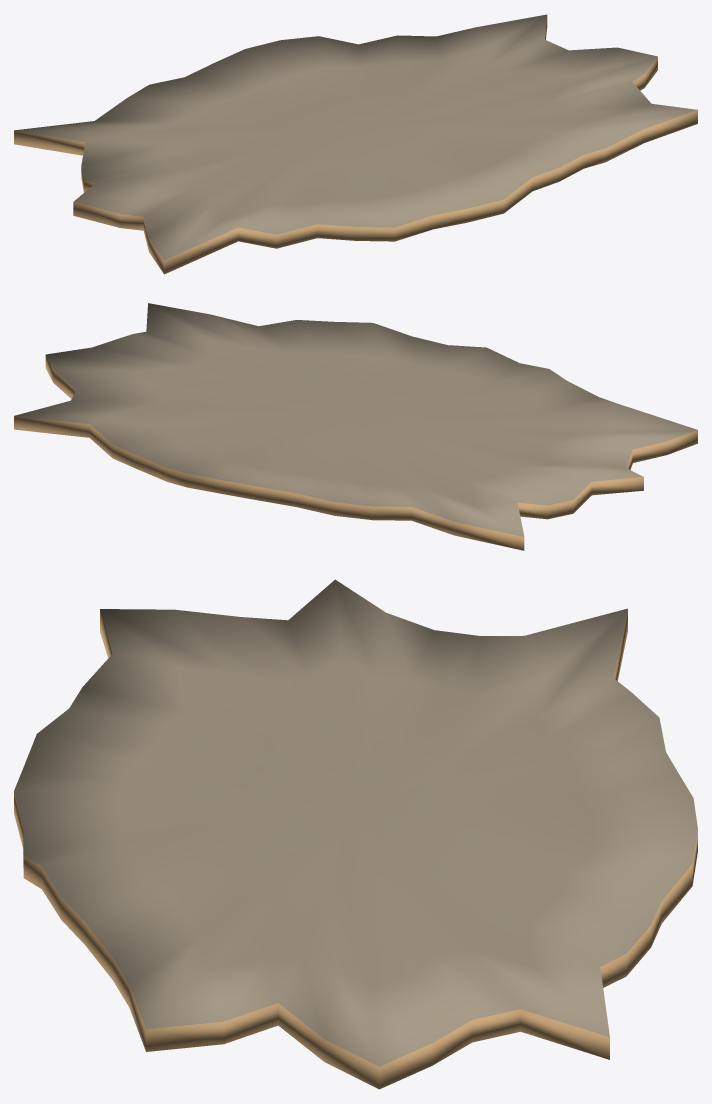
The model's file is w3d_pelt_wolf_hide_s.glb.
The picture shows the model from 3 angles, top to bottom: view 1: azimuth 30°, elevation 25°; view 2: azimuth 150°, elevation 25°; view 3: azimuth 270°, elevation 25°; orthographic projection. The views are drawn at different scales.
Parts seen in each view (by area): view 1: w3d_pelt_wolf_hide_s; view 2: w3d_pelt_wolf_hide_s; view 3: w3d_pelt_wolf_hide_s.
Part boxes in pixels (x1,y1,x2,y2): w3d_pelt_wolf_hide_s: [14, 14, 697, 274]; w3d_pelt_wolf_hide_s: [14, 303, 697, 550]; w3d_pelt_wolf_hide_s: [14, 579, 697, 1089].
Size of the model in its own units: 0.8038 by 0.0357 by 0.494.
